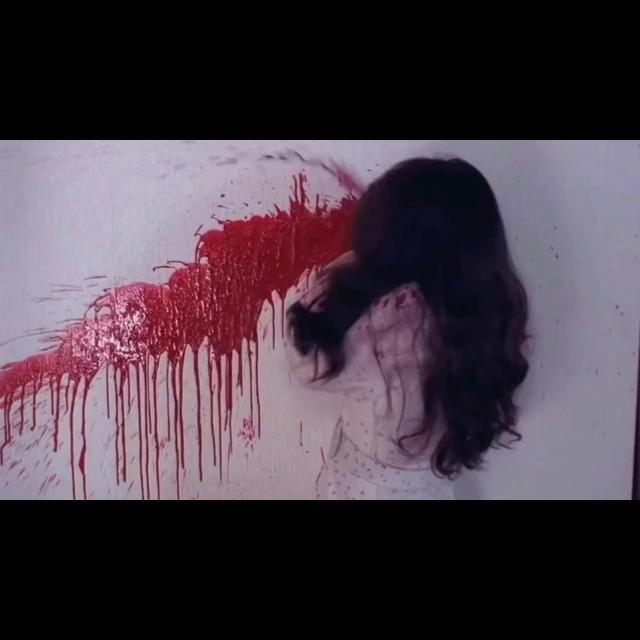blood: (0, 156, 362, 499)
